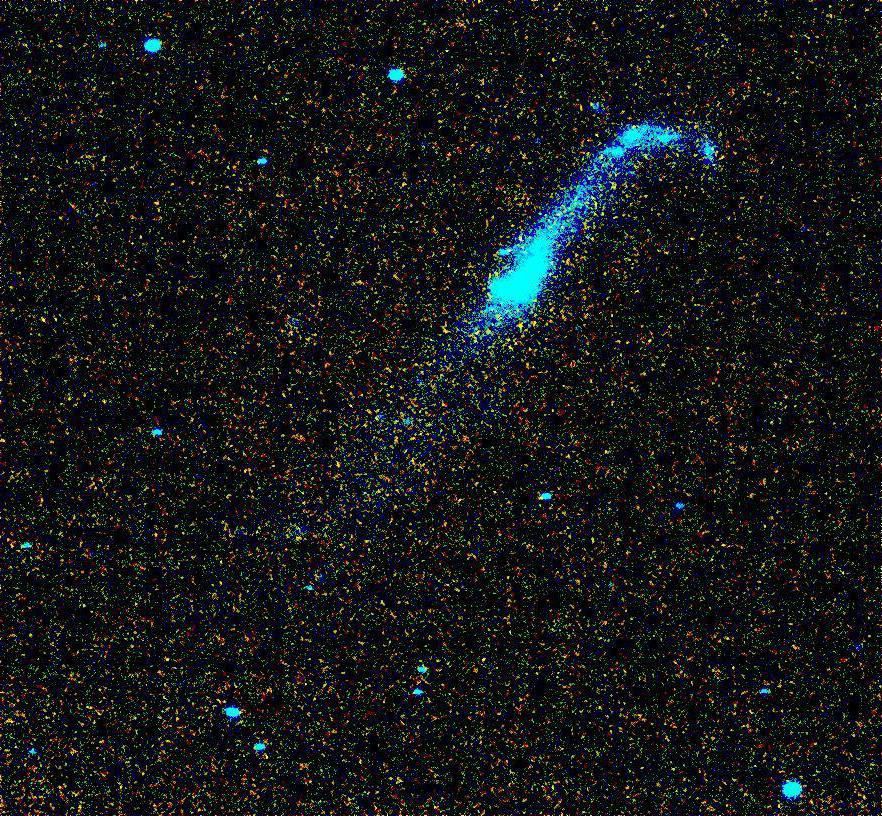star: (152, 644, 182, 674)
